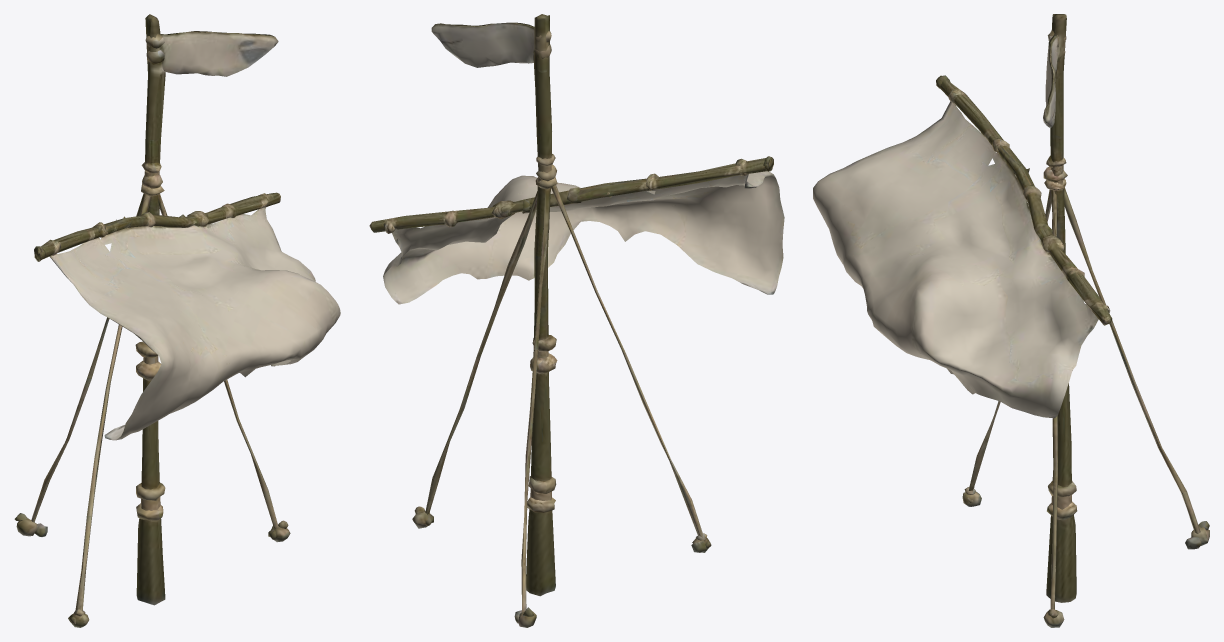
File: av_mastro.glb
3 views of the same model, side by side, from view 1: azimuth 30°, elevation 25°; view 2: azimuth 150°, elevation 25°; view 3: azimuth 270°, elevation 25° (orthographic).
Parts seen in each view (by area): view 1: Mesh_0.006; view 2: Mesh_0.006; view 3: Mesh_0.006.
Part boxes in pixels (x1,y1,x2,y2): Mesh_0.006: [14, 14, 340, 627]; Mesh_0.006: [369, 14, 784, 627]; Mesh_0.006: [813, 14, 1209, 627].
Size of the model in its own units: 0.3633 by 0.6055 by 0.374.
Materials: 1 (1 with a texture image).
